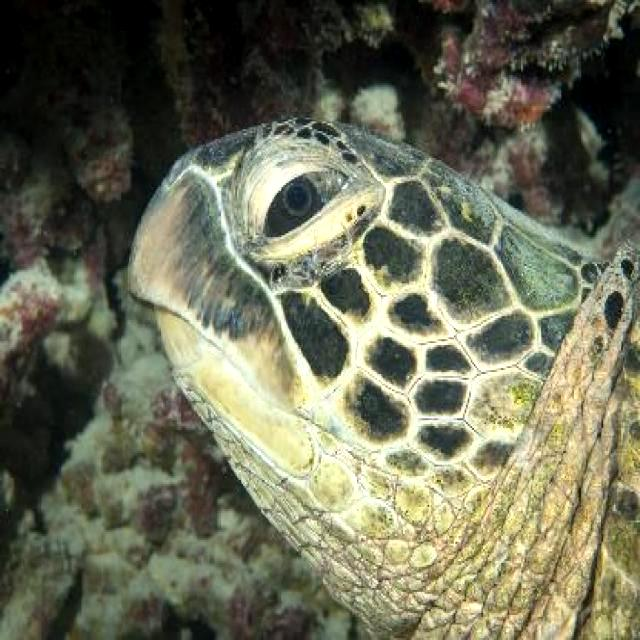Sea turtle: (121, 115, 640, 640)
